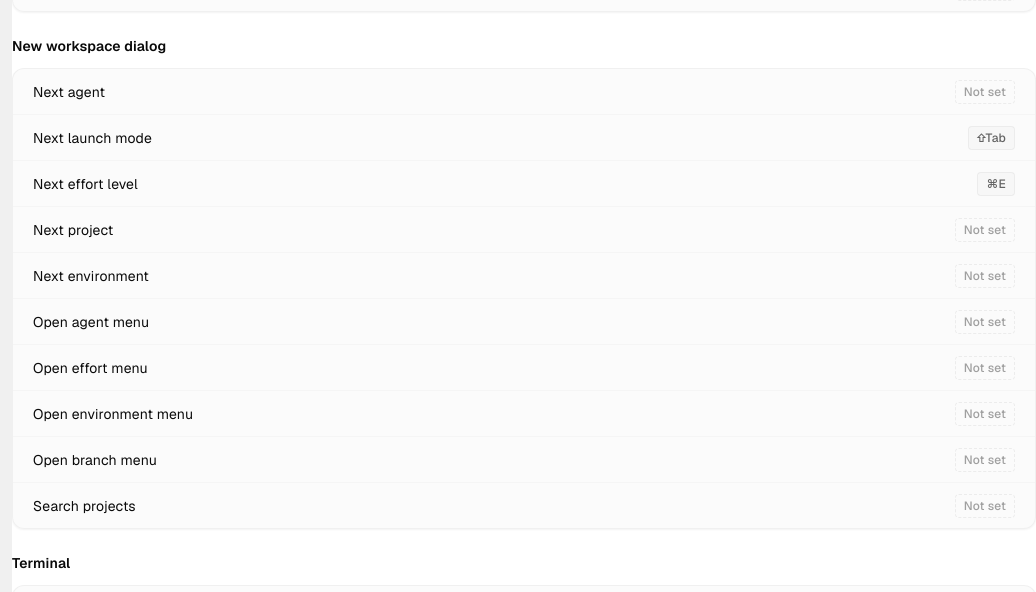
Scenario: ShortcutsTab › new workspace dialog shortcuts › lists an unset action, which can take Shift+Tab
(page scrolled)
Click the button "Not set" in the row of "Open effort menu" at {"x": 985, "y": 368}, box [955,355,1015,380]
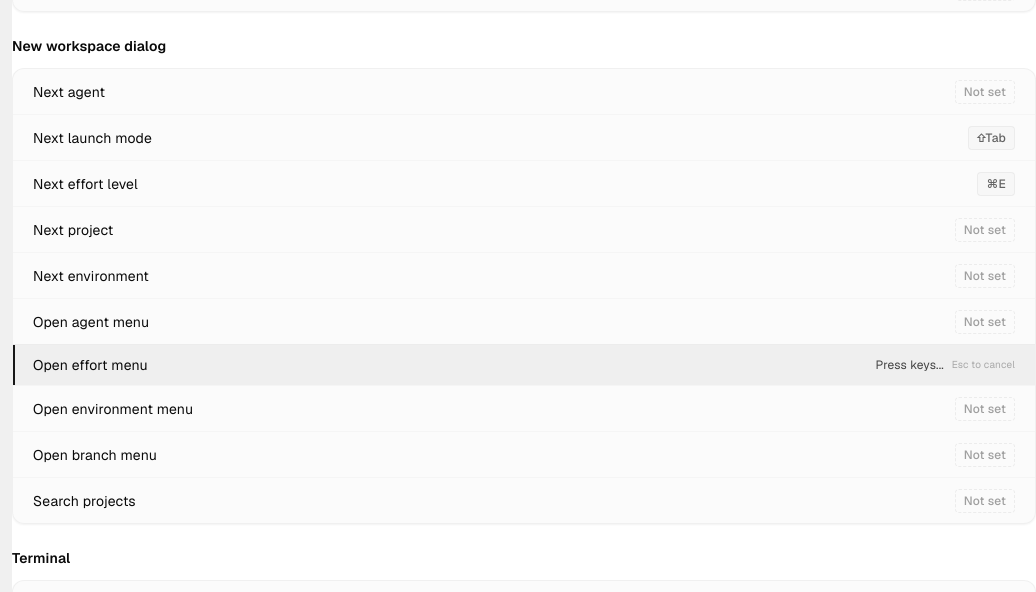
Press Tab
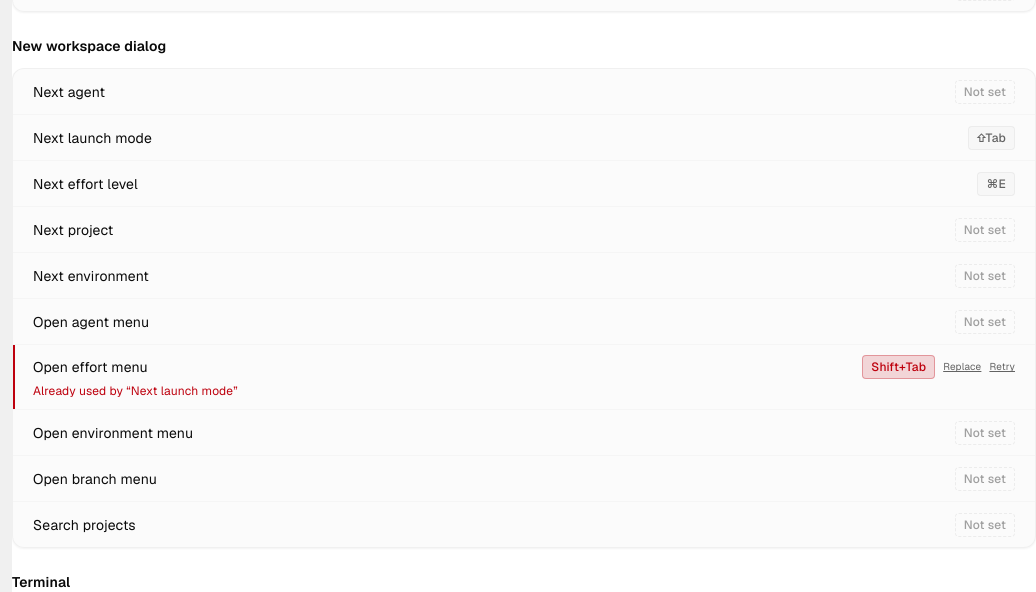
Expected: the text "Already used by “Next launch mode”" is shown, [33,383,238,399]
